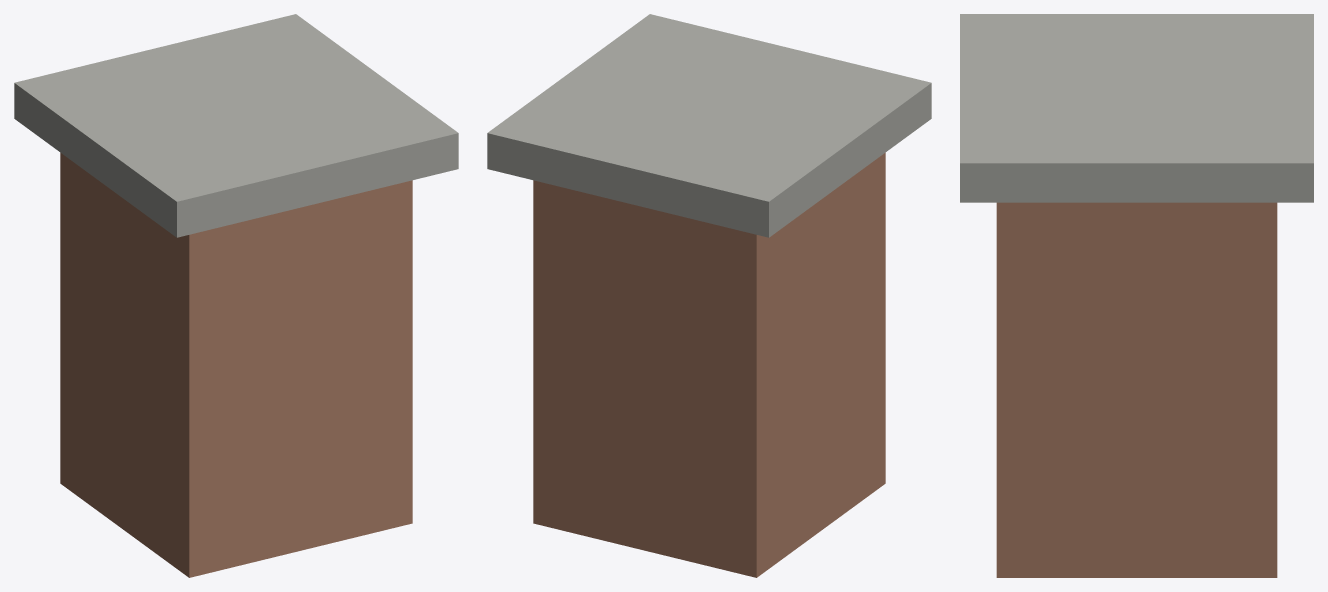
Rendered from roof_chimney.glb.
3 renders of one model, left to right at view 1: azimuth 30°, elevation 25°; view 2: azimuth 150°, elevation 25°; view 3: azimuth 270°, elevation 25°, orthographic. The views are drawn at different scales.
Parts seen in each view (by area): view 1: body; view 2: body; view 3: body.
Part boxes in pixels (<box>): body: <box>14,14,458,577</box>; body: <box>487,14,931,577</box>; body: <box>960,14,1313,577</box>.
Size of the model in its own units: 0.82 by 1.1 by 0.82.
